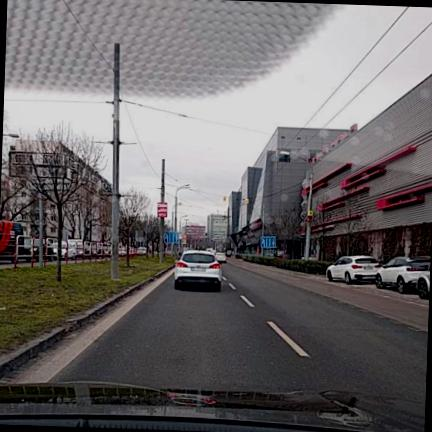Road: (52, 261, 427, 401)
